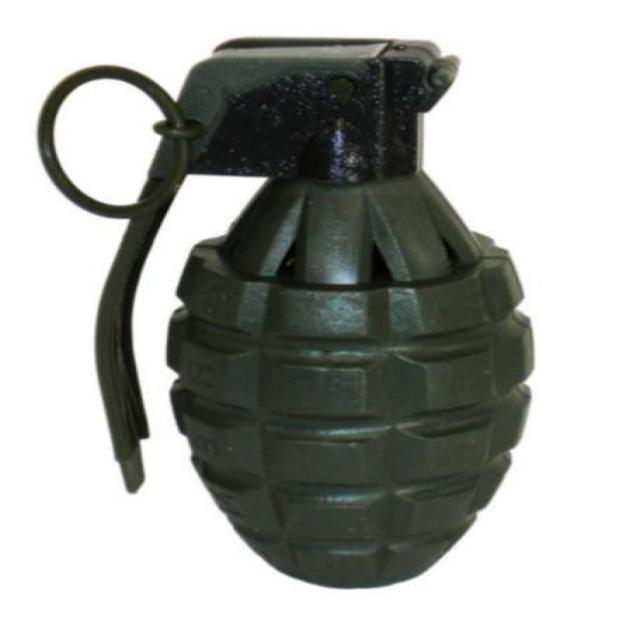grenade: (38, 36, 536, 590)
